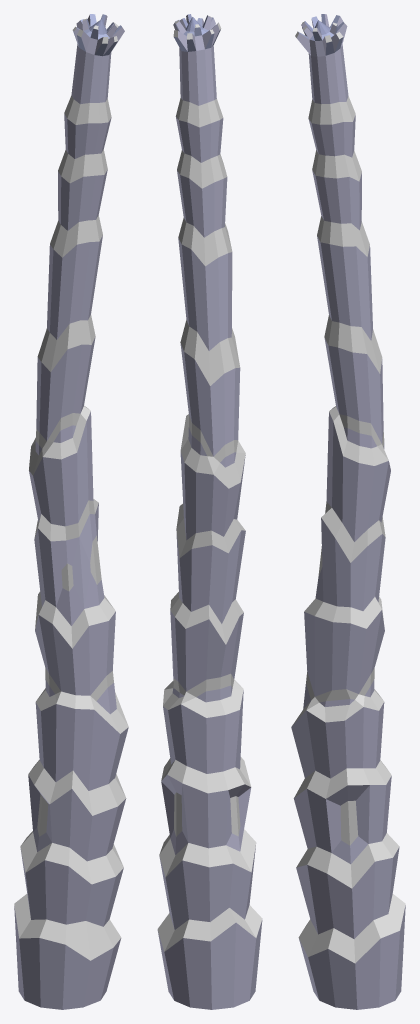
The model's file is Prop_Plant_Palmtree_Long.fbx.
3 views of the same model, side by side, from view 1: azimuth 90°, elevation 25°; view 2: azimuth 210°, elevation 25°; view 3: azimuth 270°, elevation 25° (orthographic).
Parts seen in each view (by area): view 1: Model_Palmtree_Long; view 2: Model_Palmtree_Long; view 3: Model_Palmtree_Long.
Boxes of the visible parts, x1,y1,x2,y2 form: Model_Palmtree_Long: [14, 14, 128, 1009]; Model_Palmtree_Long: [157, 14, 262, 1009]; Model_Palmtree_Long: [291, 14, 405, 1009].
Size of the model in its own units: 361 by 3617 by 387.
